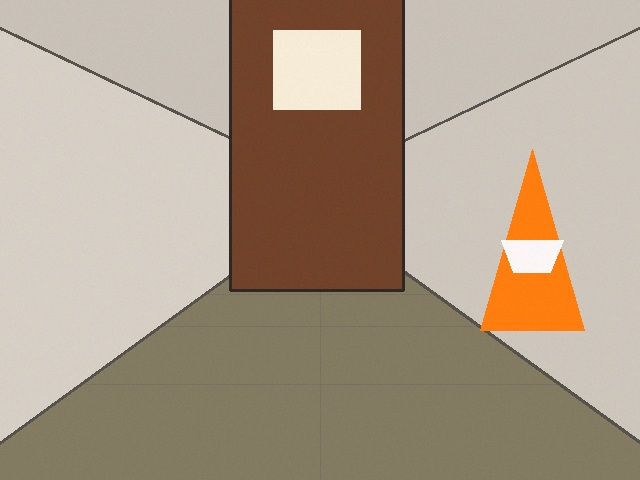door: (230, 0, 403, 290)
obstacle: (480, 149, 584, 330)
